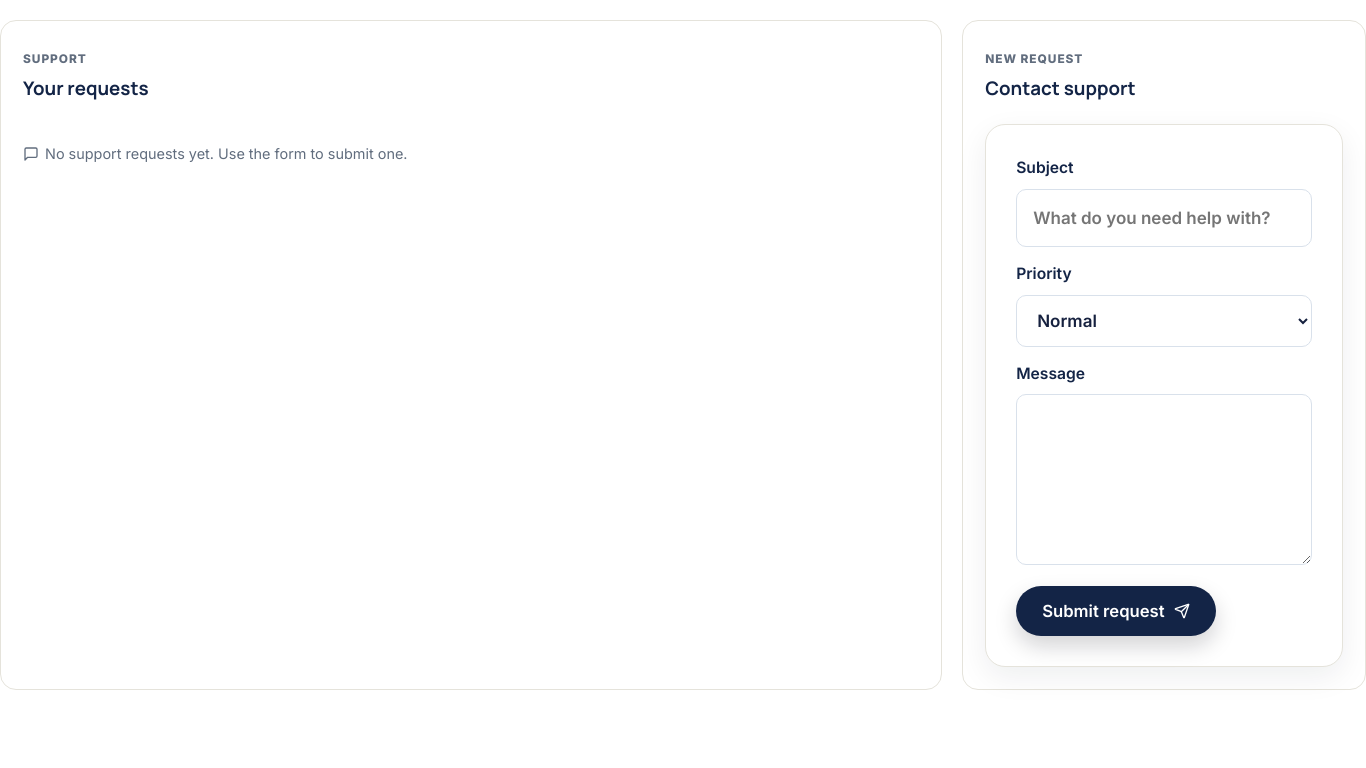
Test case: Support page › creates a thread through the real API and refreshes the list
expect the text "No support requests yet. Use the form to submit one." is shown: met, box x1=23 y1=145 x2=408 y2=162
Type "Question about EIN" into the field labelled "Subject" at (1164, 218), box x1=1016 y1=189 x2=1312 y2=247
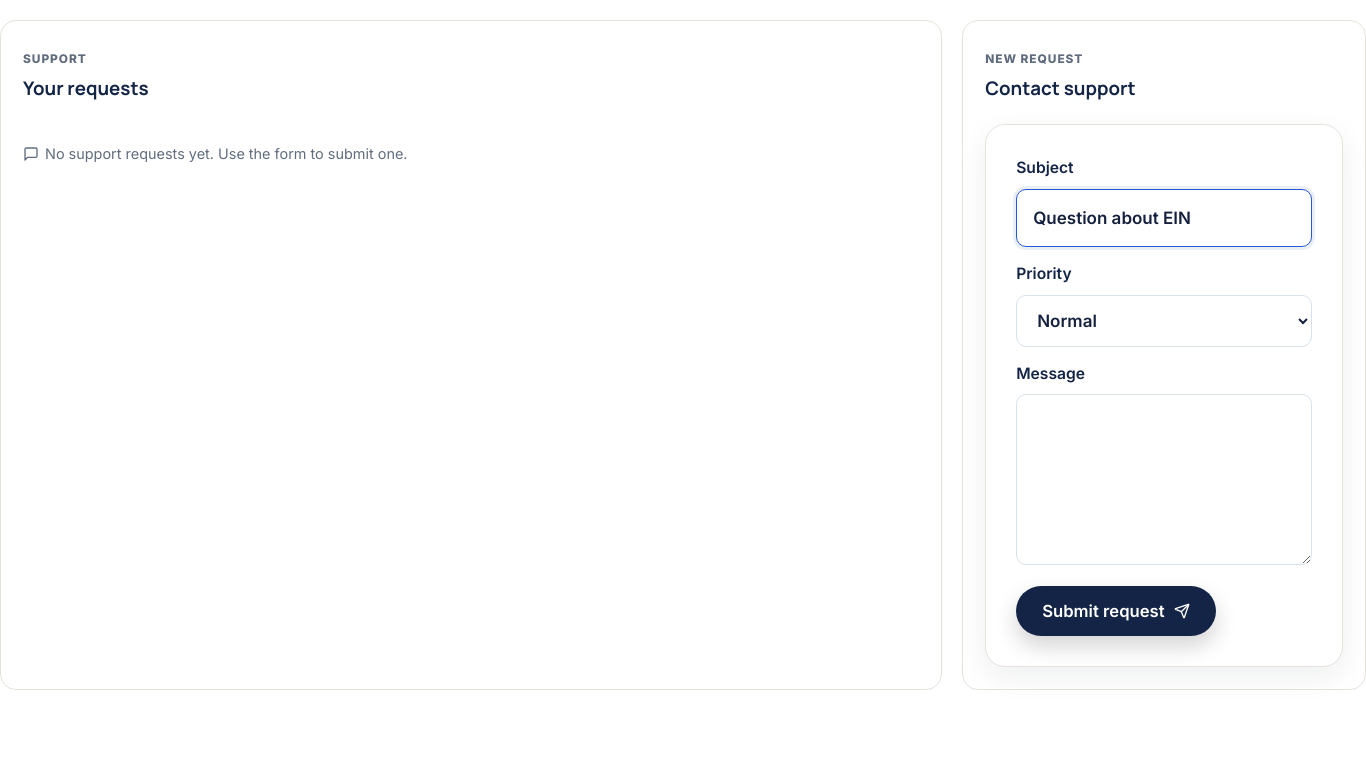
Type "How long does an EIN filing usually take?" into the text box labelled "Message" at (1164, 479), box x1=1016 y1=394 x2=1312 y2=564
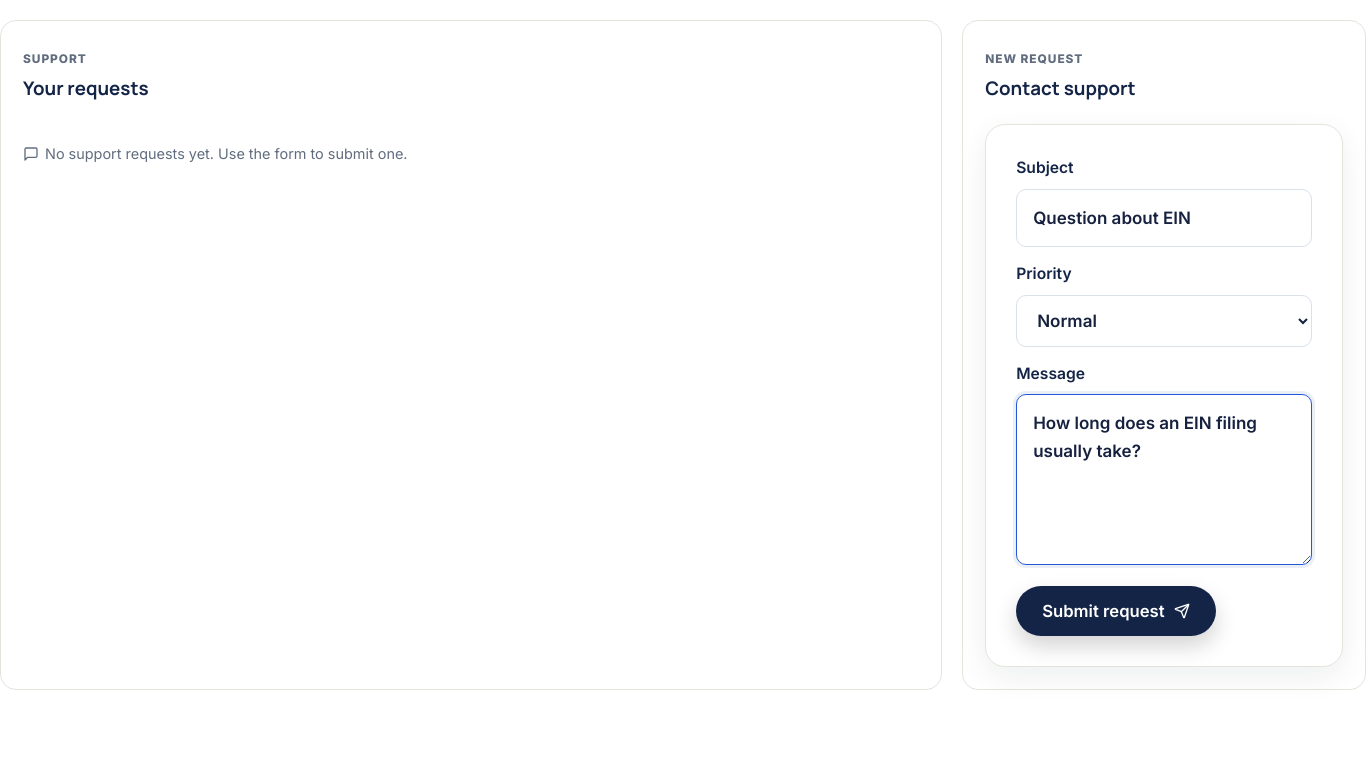
Click the button "Submit request" at (1116, 611), box x1=1016 y1=586 x2=1216 y2=636
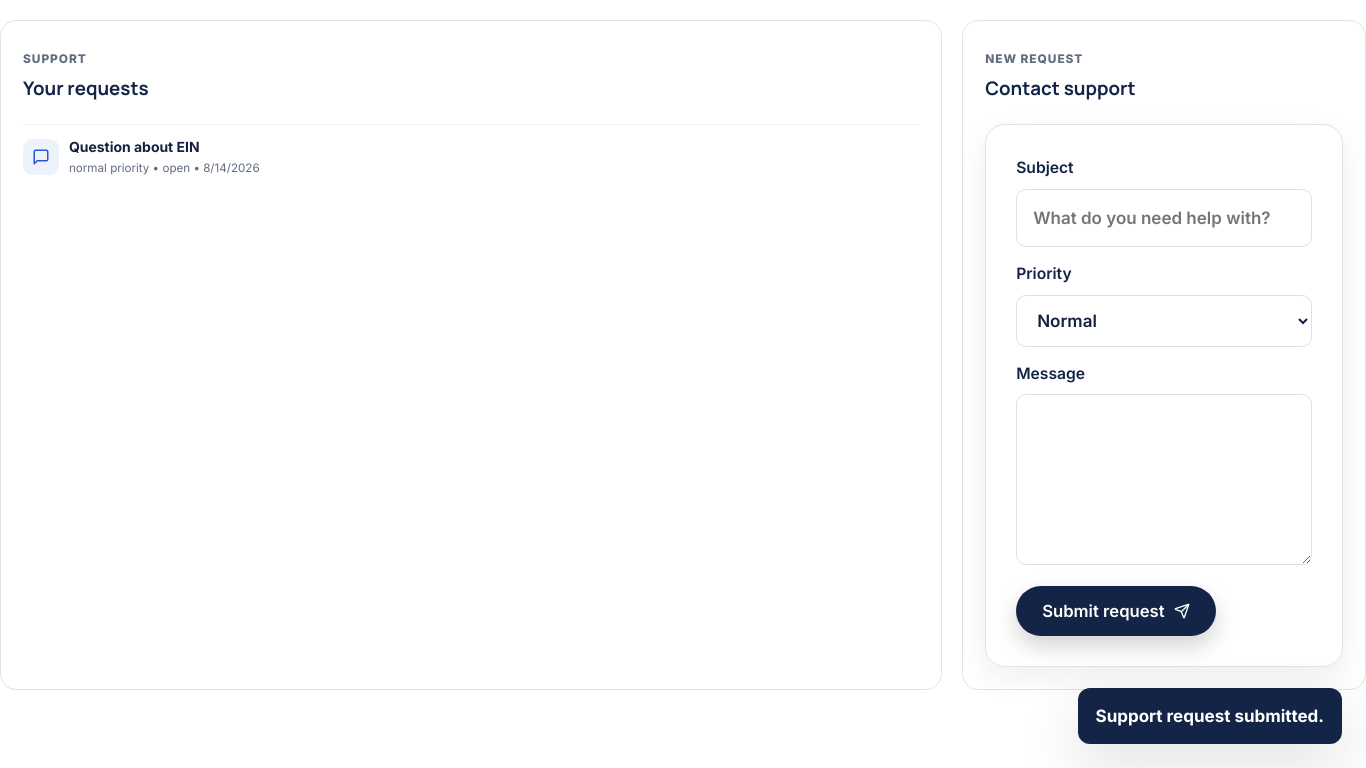
expect the text "Question about EIN" is shown: met, box x1=69 y1=138 x2=200 y2=155
